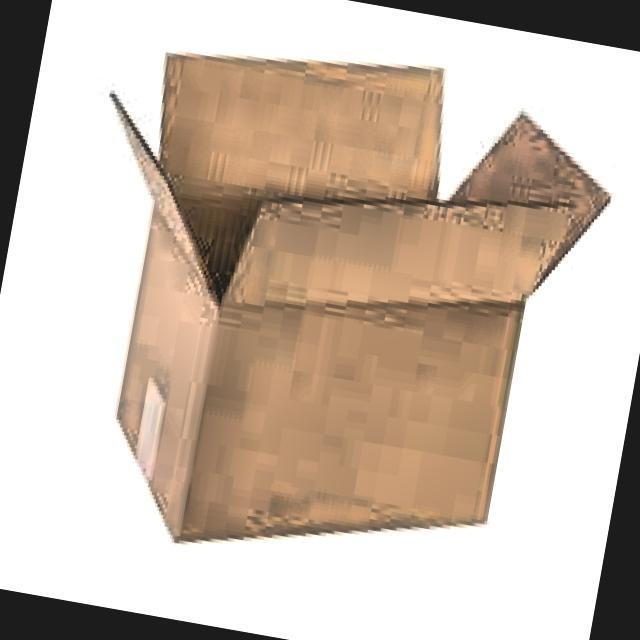cardboard: (34, 8, 630, 607)
